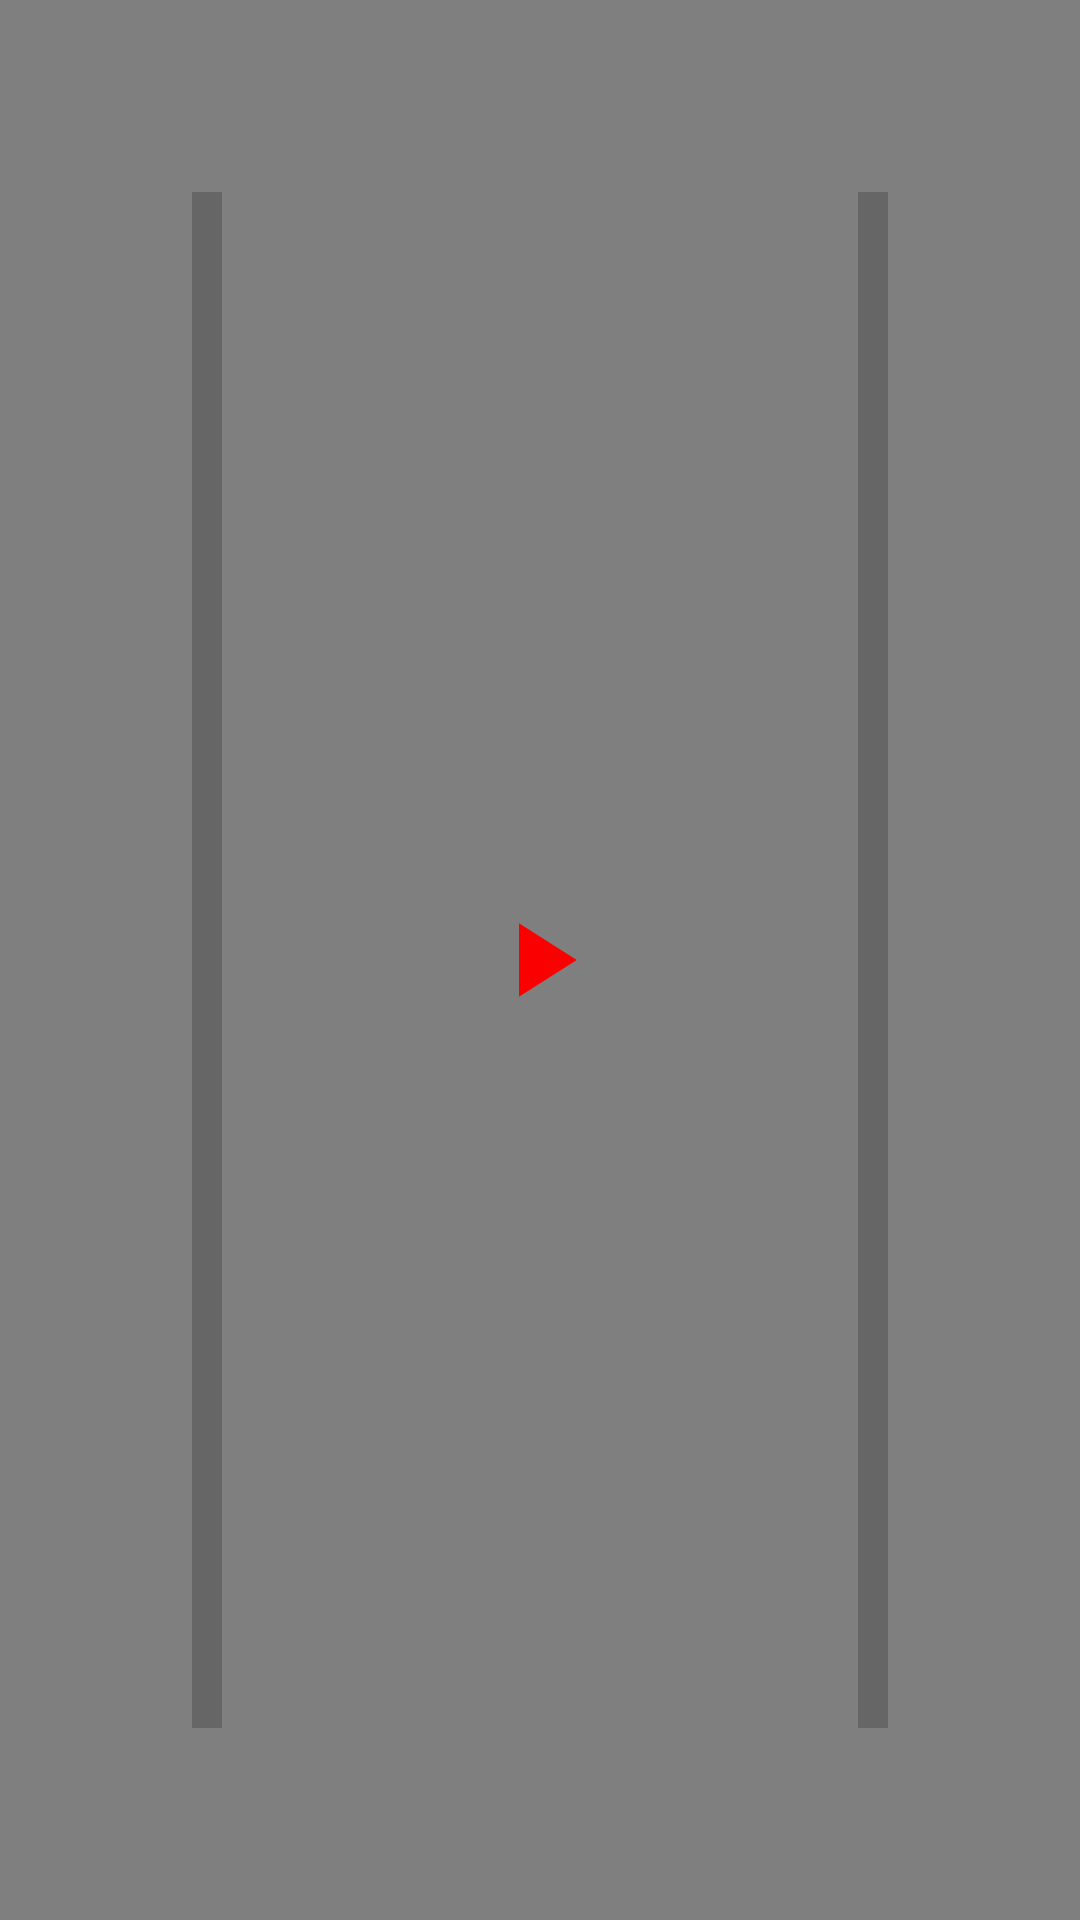

Icon click points for this 1080×1920 phone screenshot, format point (x, y):
play: point (547, 960)
